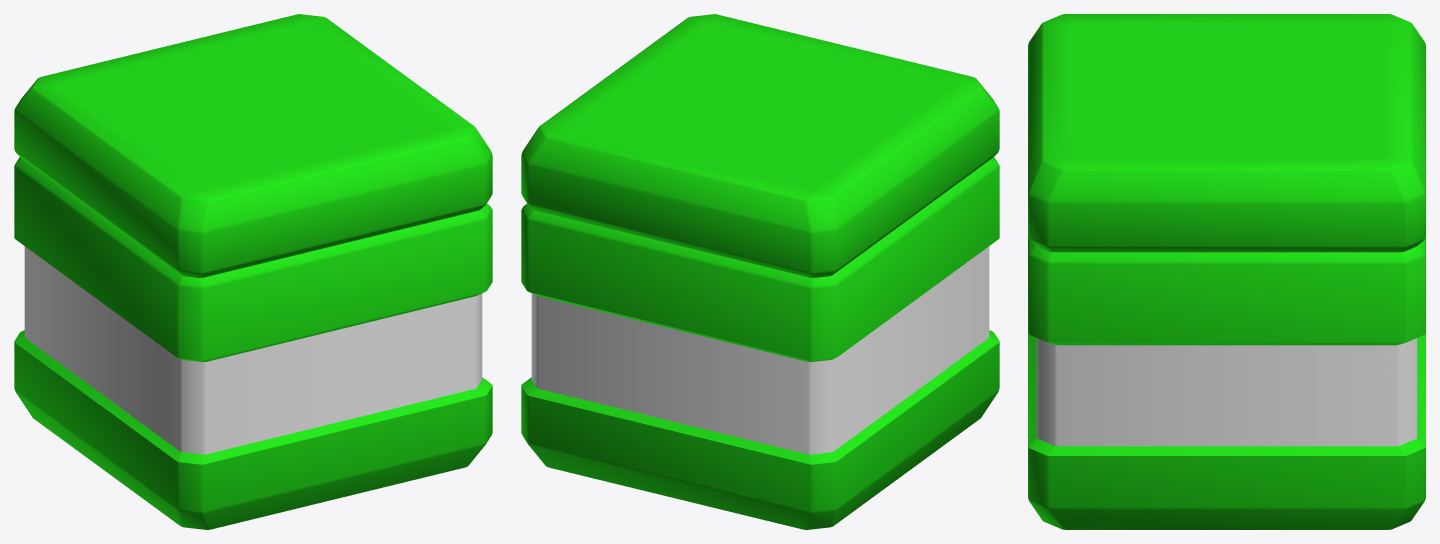
Rendered from 12_Box_green.fbx.
The picture shows the model from 3 angles, left to right: view 1: azimuth 30°, elevation 25°; view 2: azimuth 150°, elevation 25°; view 3: azimuth 270°, elevation 25°; orthographic projection. The views are drawn at different scales.
Visible parts, largest first — view 1: 12_Box_green; view 2: 12_Box_green; view 3: 12_Box_green.
Part boxes in pixels (x1,y1,x2,y2): 12_Box_green: [14, 14, 492, 529]; 12_Box_green: [521, 14, 999, 529]; 12_Box_green: [1028, 14, 1425, 529].
Bounding box in the file's own units: 100 × 100 × 100.
